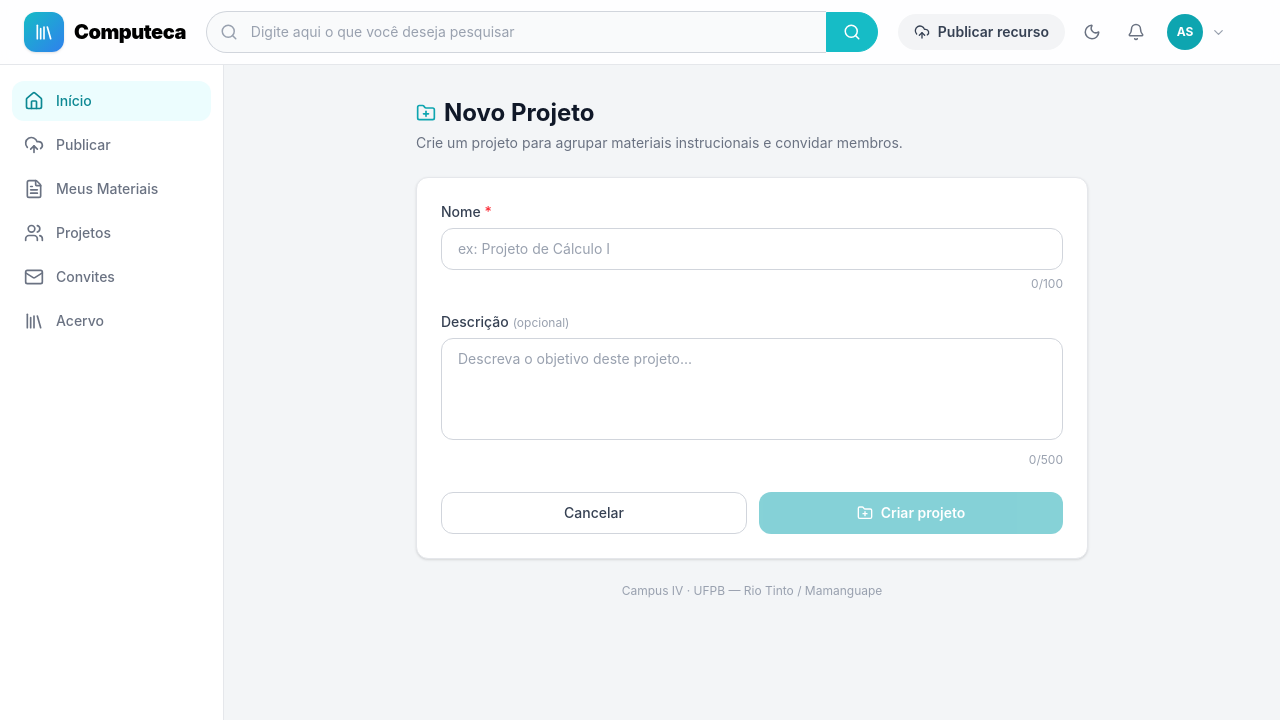
Scenario: CreateOrganizationPage › mostra erro da API ao falhar
Type "Projeto X" into the field labelled "Nome *".
click(752, 249); type("Projeto X")  # box [441, 228, 1063, 270]
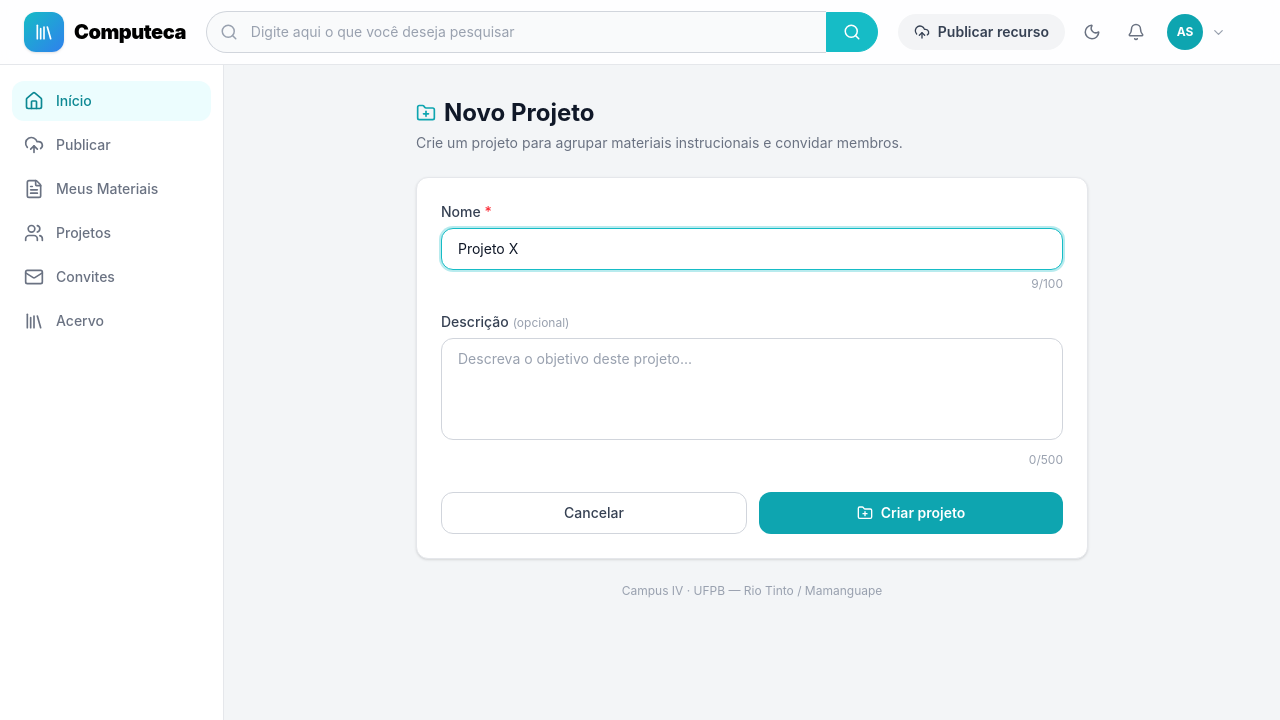
Click the button "Criar projeto".
click(911, 513)  # box [759, 492, 1063, 534]
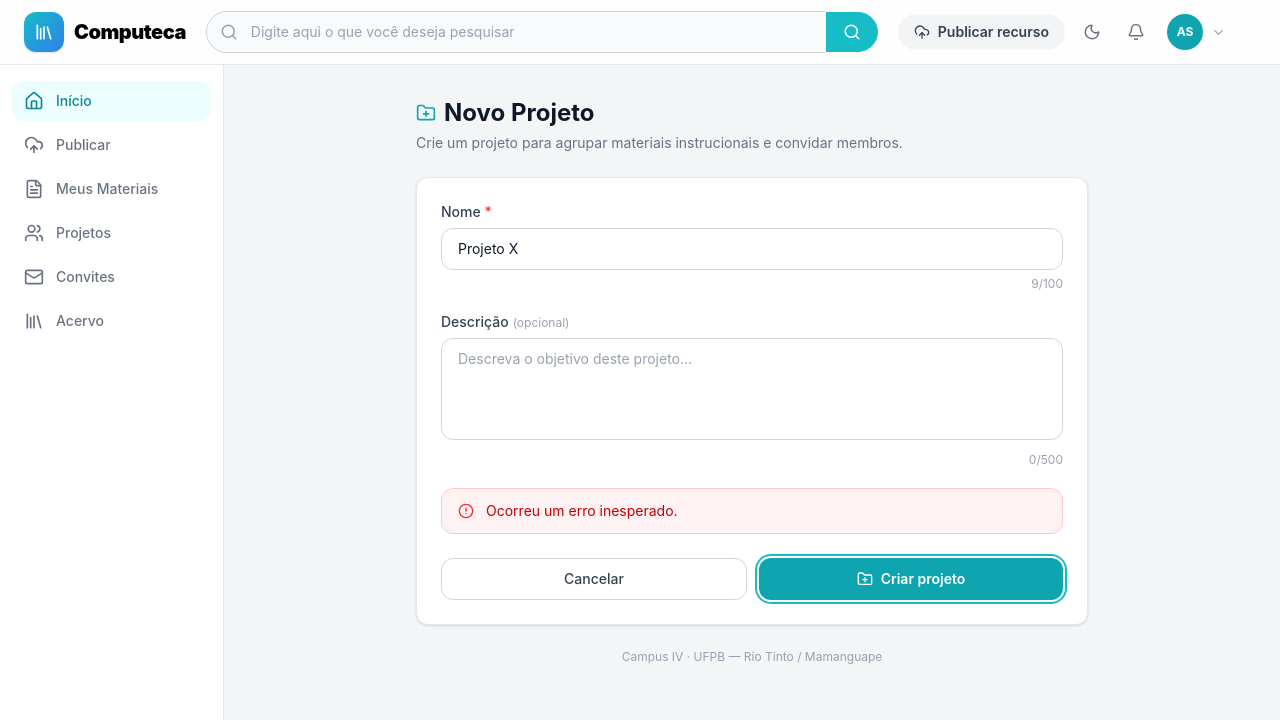
Now the text "Ocorreu um erro inesperado." is shown, box [486, 501, 678, 521]
